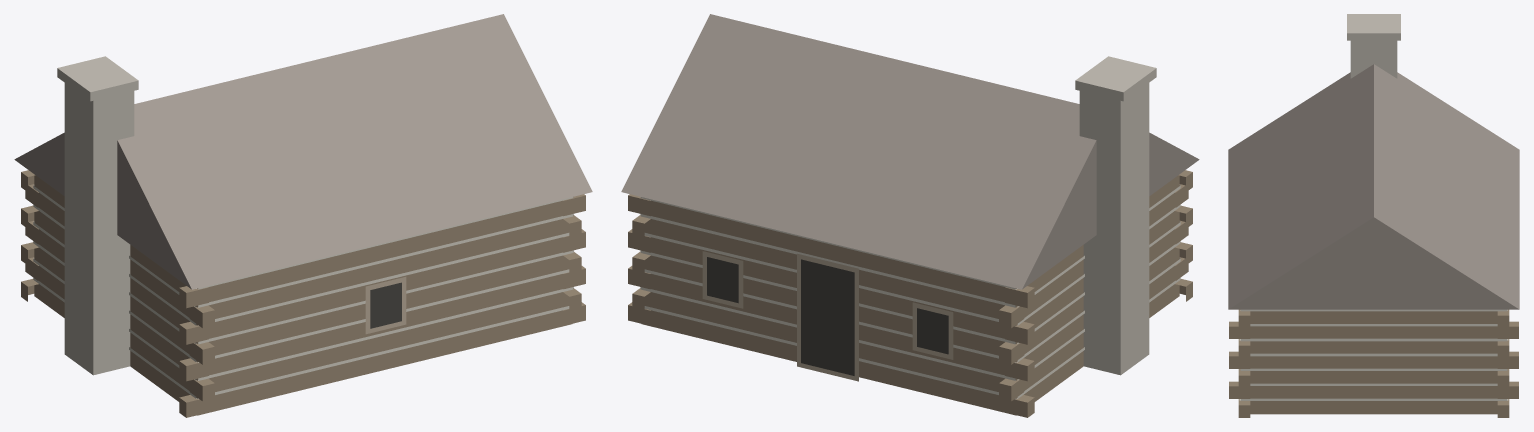
File: north_side_school_1833__log_1833.glb
The picture shows the model from 3 angles, left to right: view 1: azimuth 30°, elevation 25°; view 2: azimuth 150°, elevation 25°; view 3: azimuth 270°, elevation 25°; orthographic projection. The views are drawn at different scales.
Visible parts, largest first — view 1: north_side_school_1833__log_1833; view 2: north_side_school_1833__log_1833; view 3: north_side_school_1833__log_1833.
Part boxes in pixels (box(x1,y1,x2,y2)): north_side_school_1833__log_1833: box(14, 14, 592, 417); north_side_school_1833__log_1833: box(621, 14, 1199, 417); north_side_school_1833__log_1833: box(1228, 14, 1519, 417).
Size of the model in its own units: 8.37 by 5.39 by 6.
